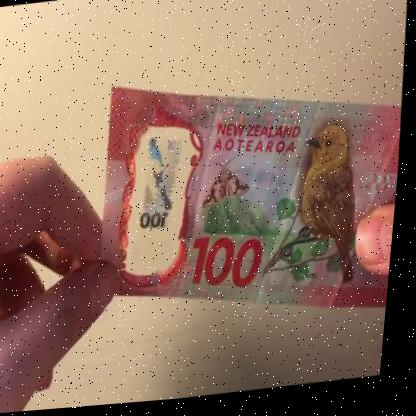100B: (137, 132, 192, 251)
